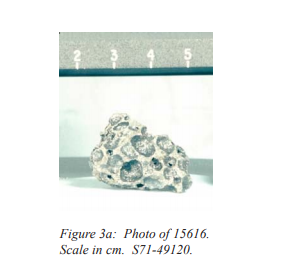Basalt: (86, 101, 207, 204)
